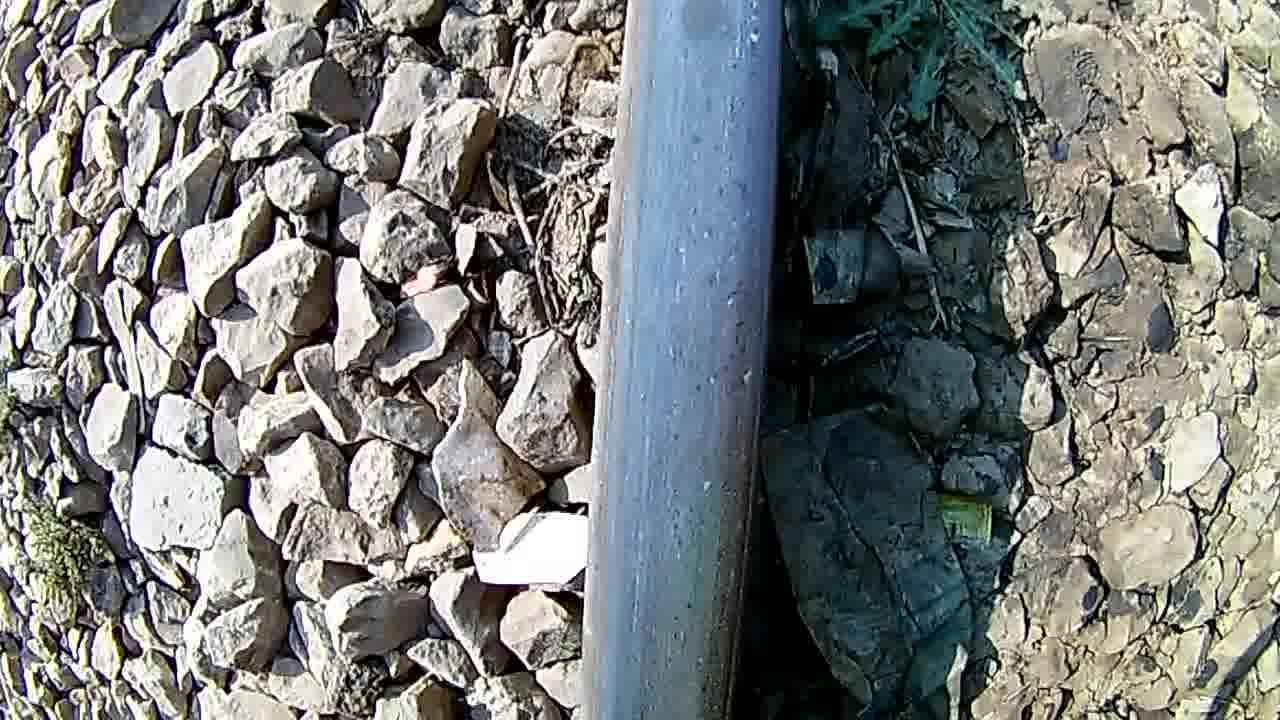crack: (630, 0, 759, 127)
